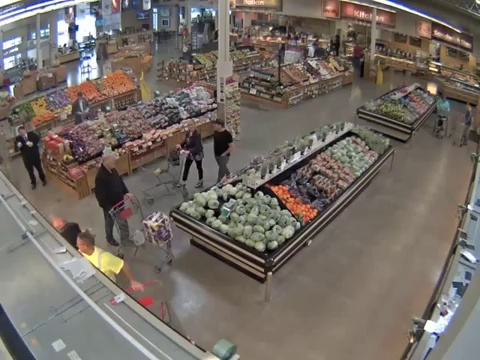face: (76, 236, 87, 251), (106, 158, 117, 167), (213, 121, 221, 131), (188, 122, 195, 132), (18, 128, 25, 136)
